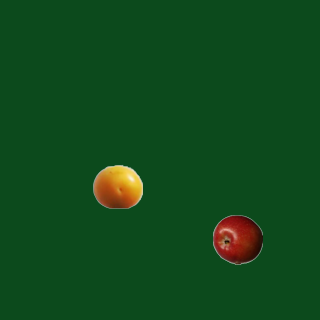Apple Braeburn: (212, 214, 262, 264)
Cherry Wax Yellow: (92, 161, 142, 211)
